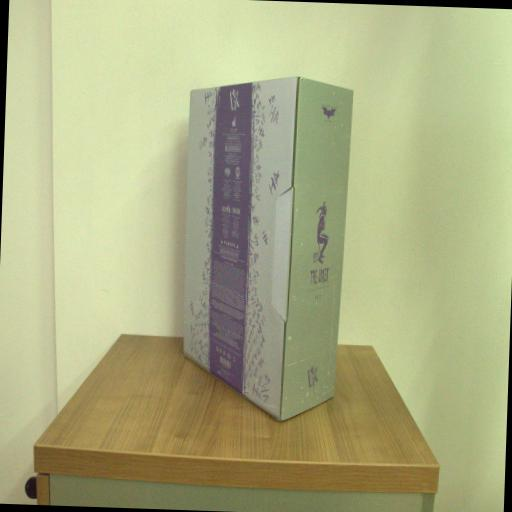Joker: (174, 71, 356, 422)
